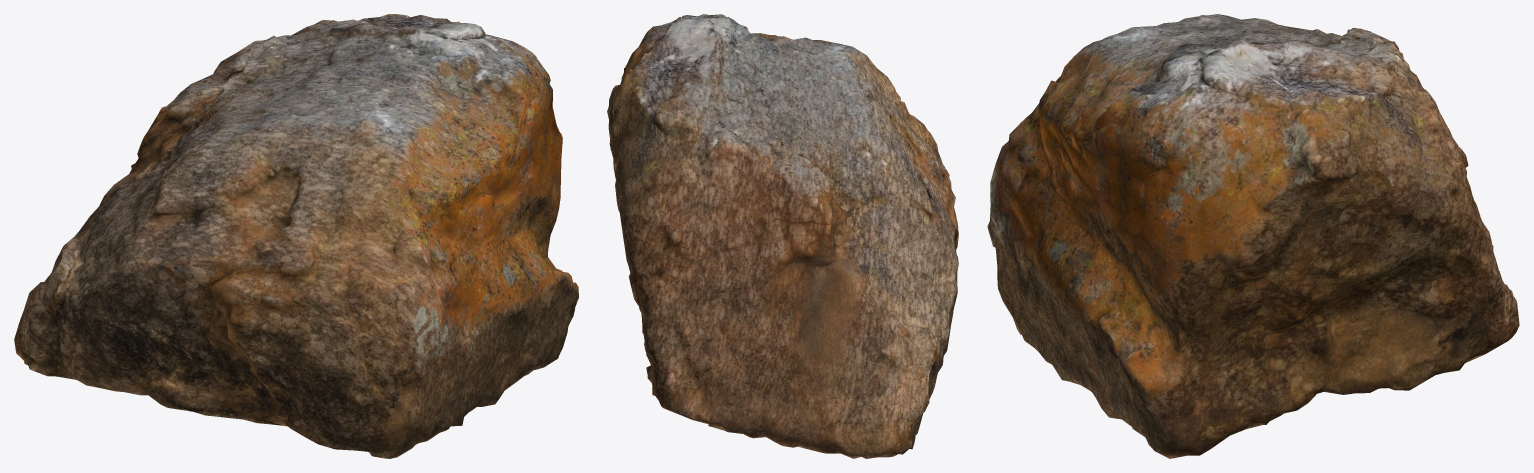
The model's file is namaqualand_boulder_04.glb.
3 views of the same model, side by side, from view 1: azimuth 30°, elevation 25°; view 2: azimuth 150°, elevation 25°; view 3: azimuth 270°, elevation 25° (orthographic). The views are drawn at different scales.
Visible parts, largest first — view 1: boulder_04; view 2: boulder_04; view 3: boulder_04.
Part boxes in pixels (<box>): boulder_04: <box>14,14,578,458</box>; boulder_04: <box>607,14,958,458</box>; boulder_04: <box>987,14,1519,458</box>.
Size of the model in its own units: 2.52 by 1.9 by 2.49.
1 material, 1 textured.
